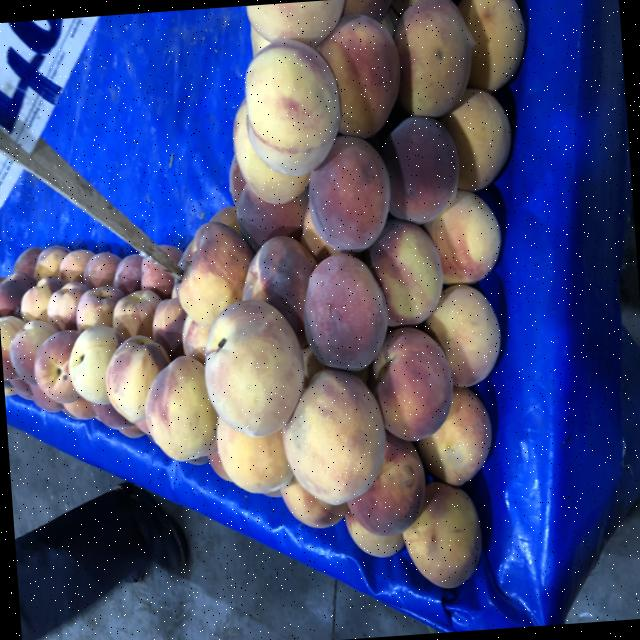peach: (283, 368, 385, 504), (205, 298, 304, 435), (245, 40, 340, 174), (304, 252, 387, 369), (309, 134, 390, 250), (393, 0, 474, 116), (372, 326, 453, 440), (422, 283, 500, 386), (145, 355, 217, 460), (34, 329, 80, 403)
